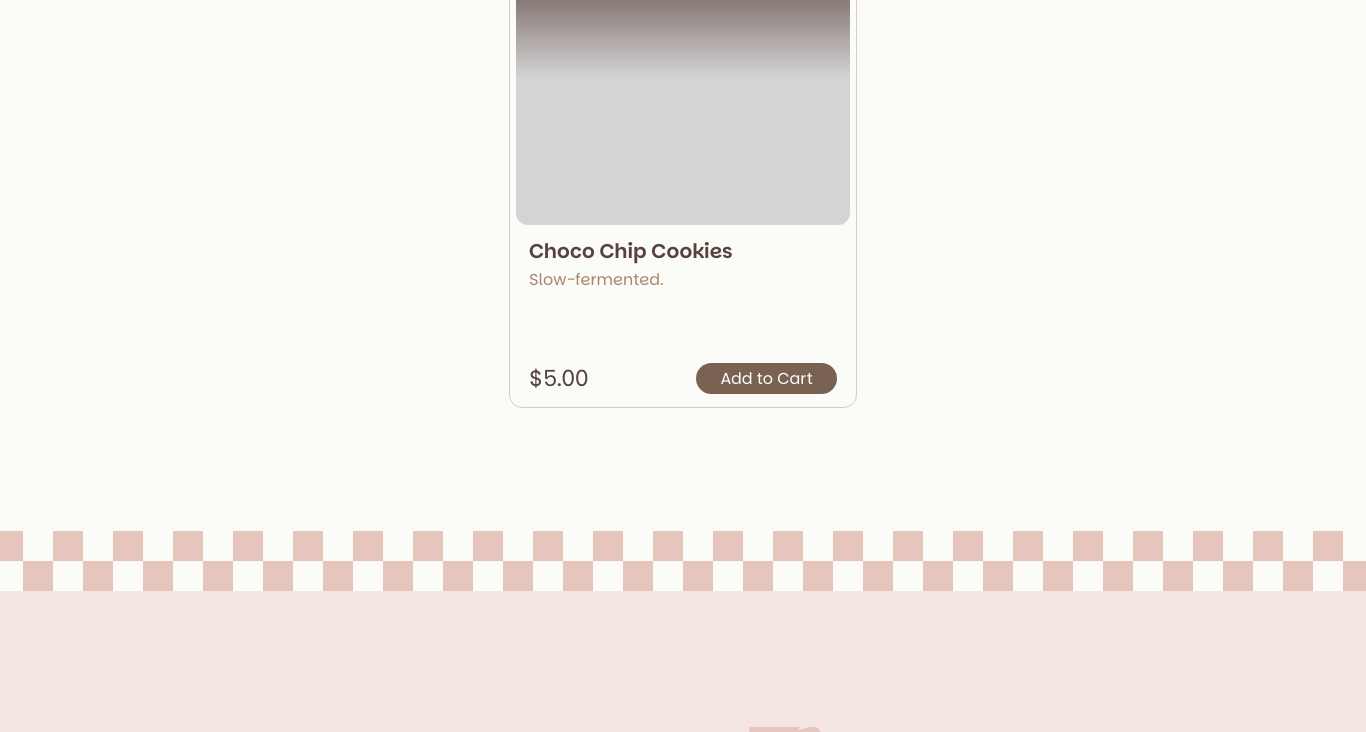
Test case: Menu pack-size pills › the qty stepper reflects only the currently selected pack size, not the product overall
The image size is (1366, 732).
(page scrolled)
Expected: the text "Choco Chip Cookies" is shown, [529,237,733,265]
Click the button "Add to Cart": (767, 379) [696,363,837,394]
(page scrolled)
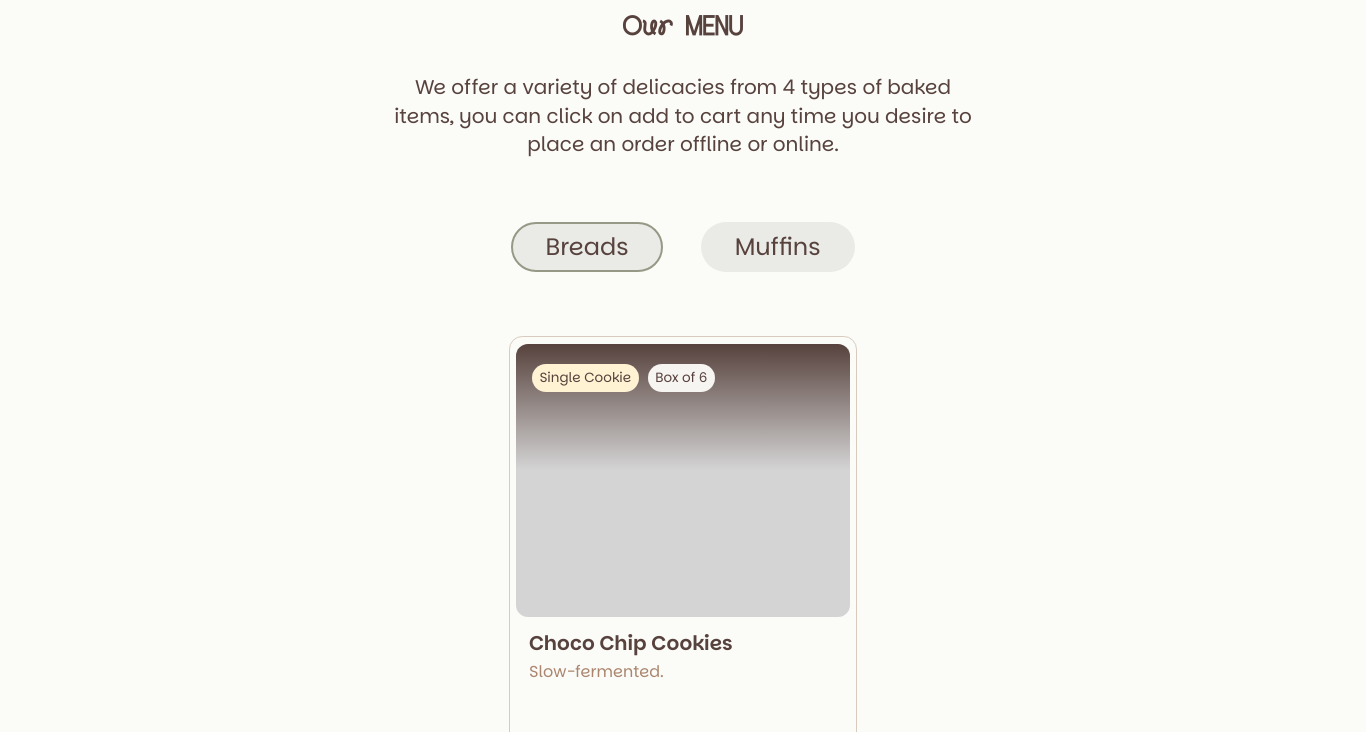
Click the button "Box of 6": (681, 378) [648,364,715,392]
(page scrolled)
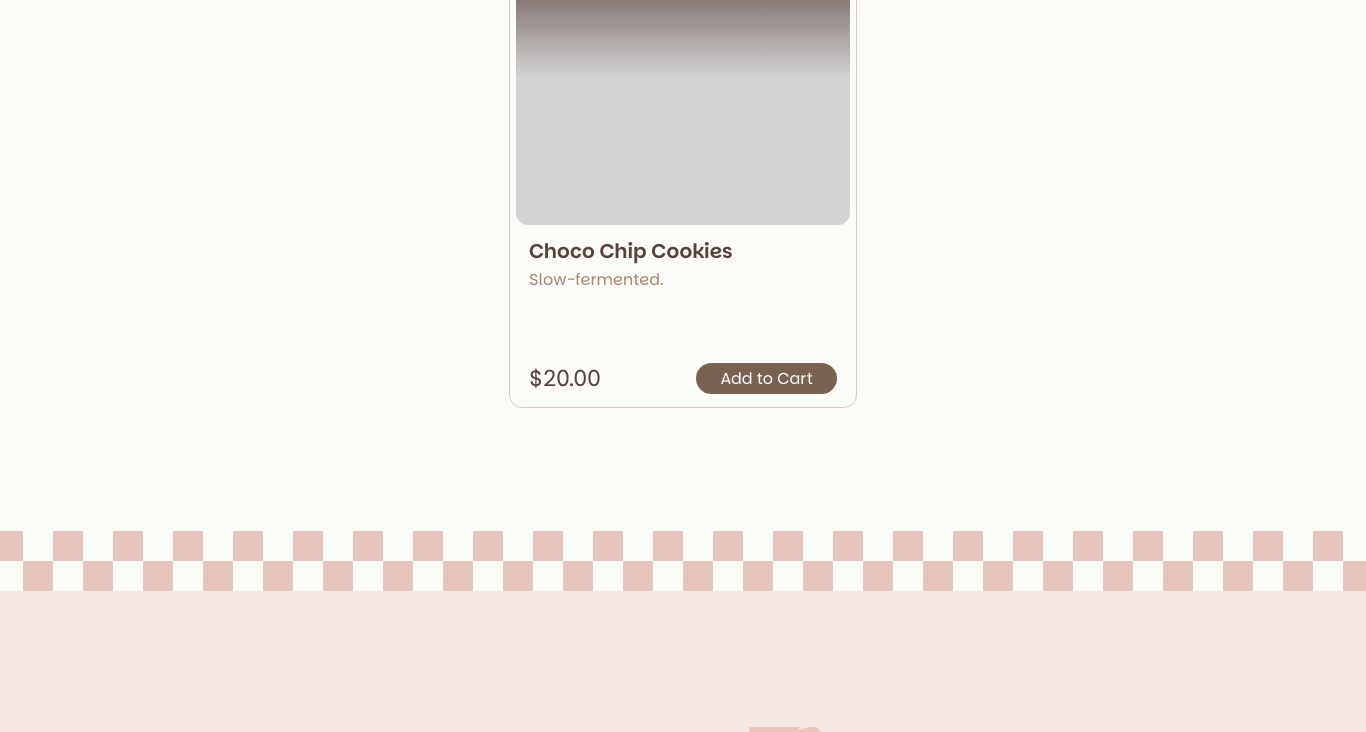
Now the button "Add to Cart" is shown, box [696,363,837,394]
